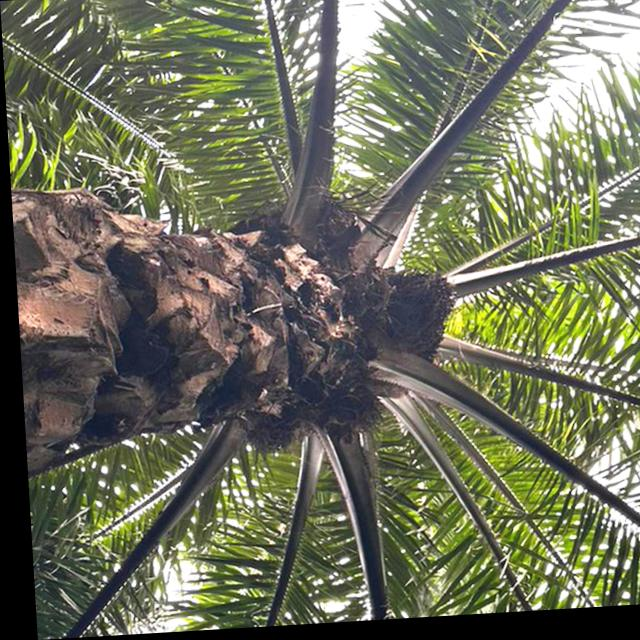almost: (370, 267, 456, 369)
